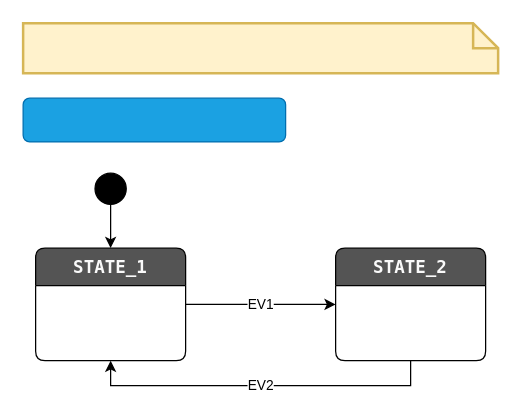
This 520x418 diagram has some shape labels left out. The centre of each missing label's shape, as x and y in pixels:
"$STATEMACHINE : MySm" belongs at (154,119).
"https://github.com/StateSmith/StateSmith/issues/78" belongs at (260,47).
